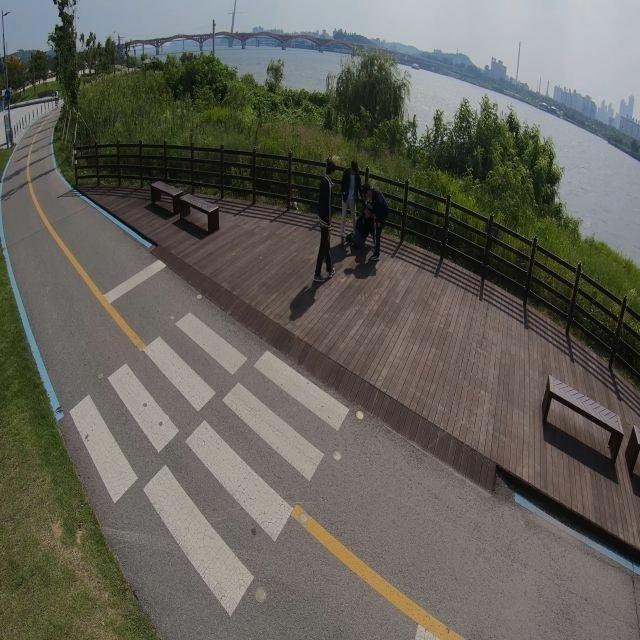fight: (341, 160, 385, 276)
non-fight: (313, 162, 336, 283)
